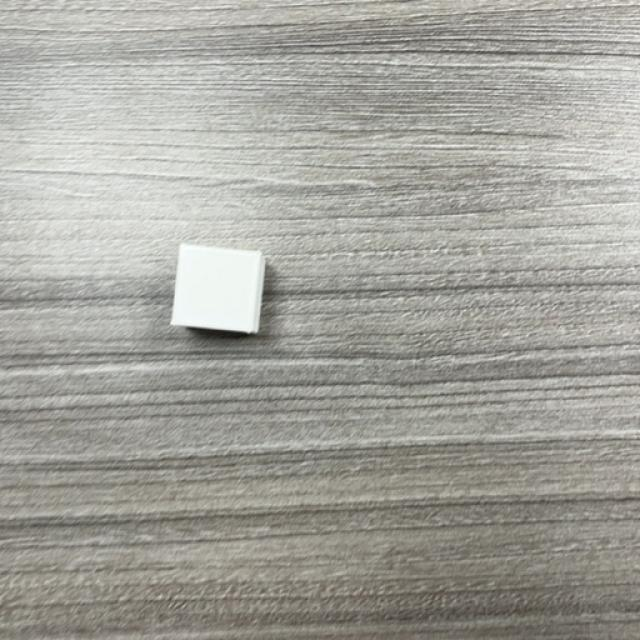Blanco: (170, 245, 265, 338)
